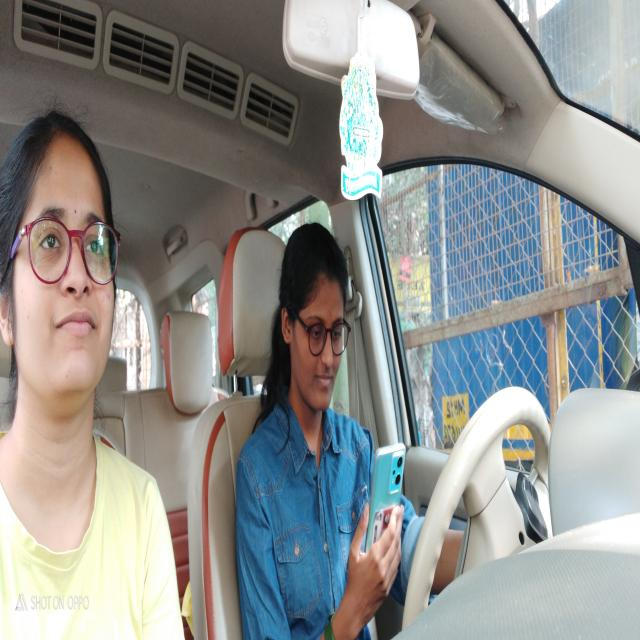mobile: (369, 443, 408, 567)
person: (0, 103, 121, 409), (276, 222, 353, 420)
